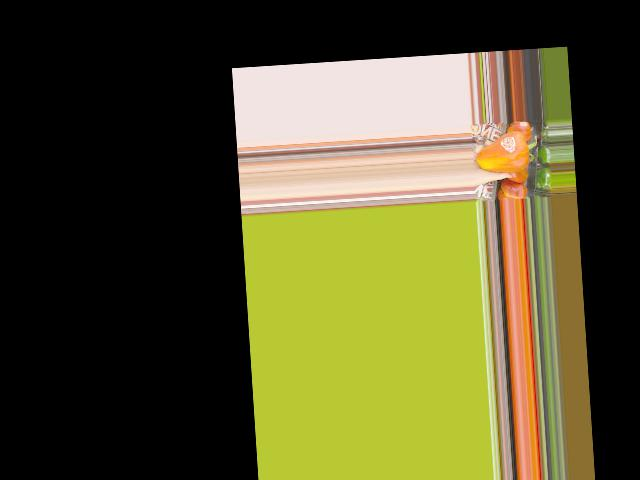bell_pepper: (475, 128, 539, 179)
